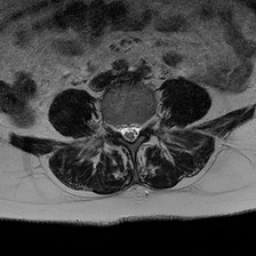CCS_normal: (125, 115, 133, 147)
LFS_normal: (140, 110, 148, 134)
LLS_normal: (133, 116, 140, 141)
RFS_normal: (110, 114, 118, 138)
RLS_normal: (118, 116, 125, 145)
